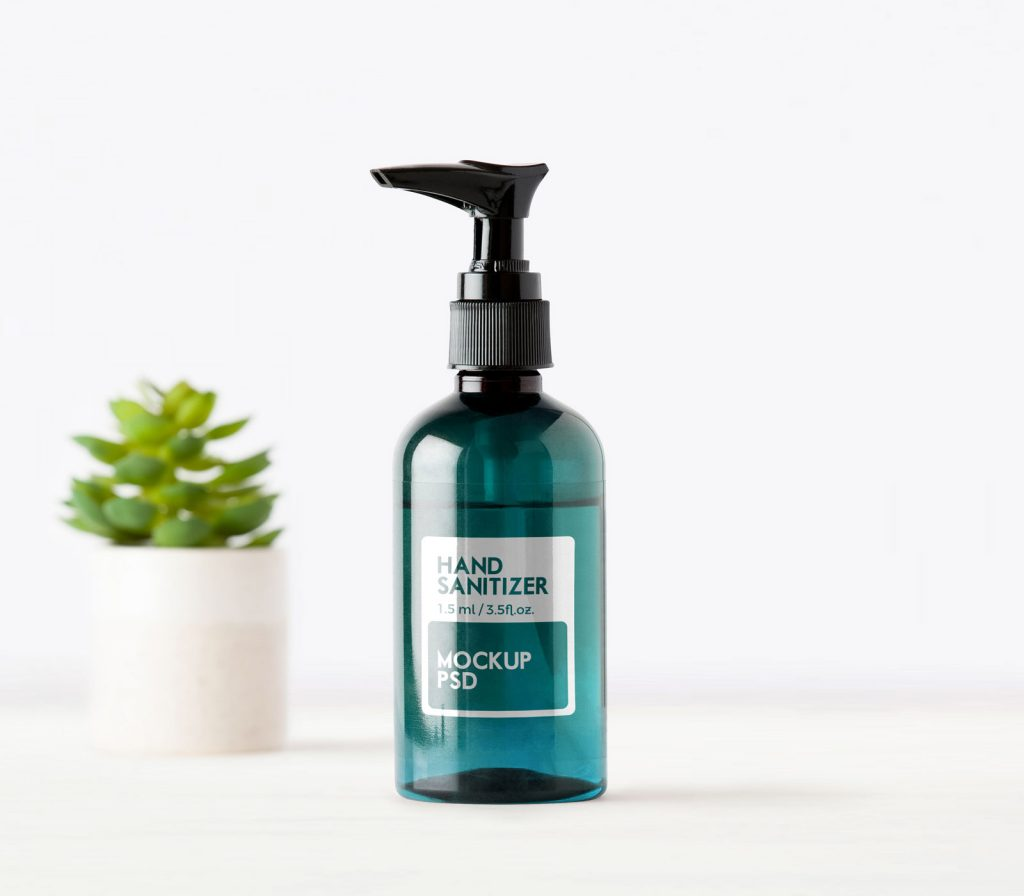Medicine: (352, 142, 650, 812)
